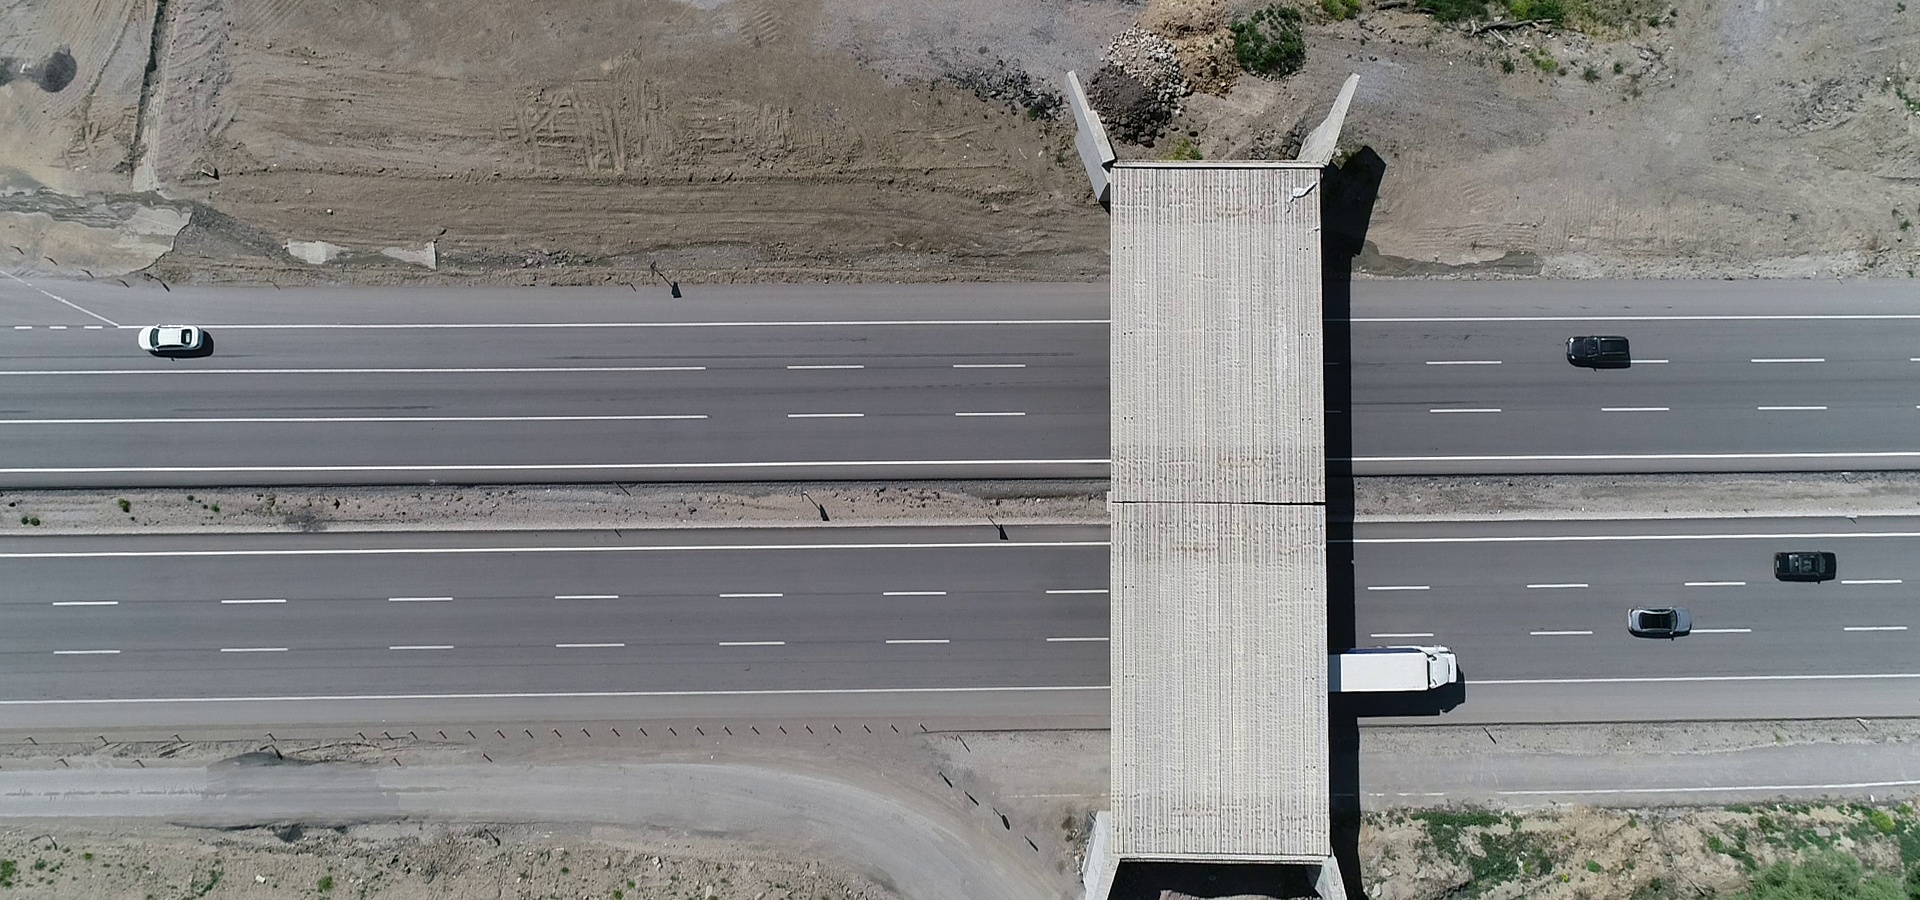arac: (1322, 638, 1471, 707), (1773, 538, 1840, 594), (125, 324, 216, 358), (1622, 604, 1704, 636), (1566, 328, 1640, 362)
